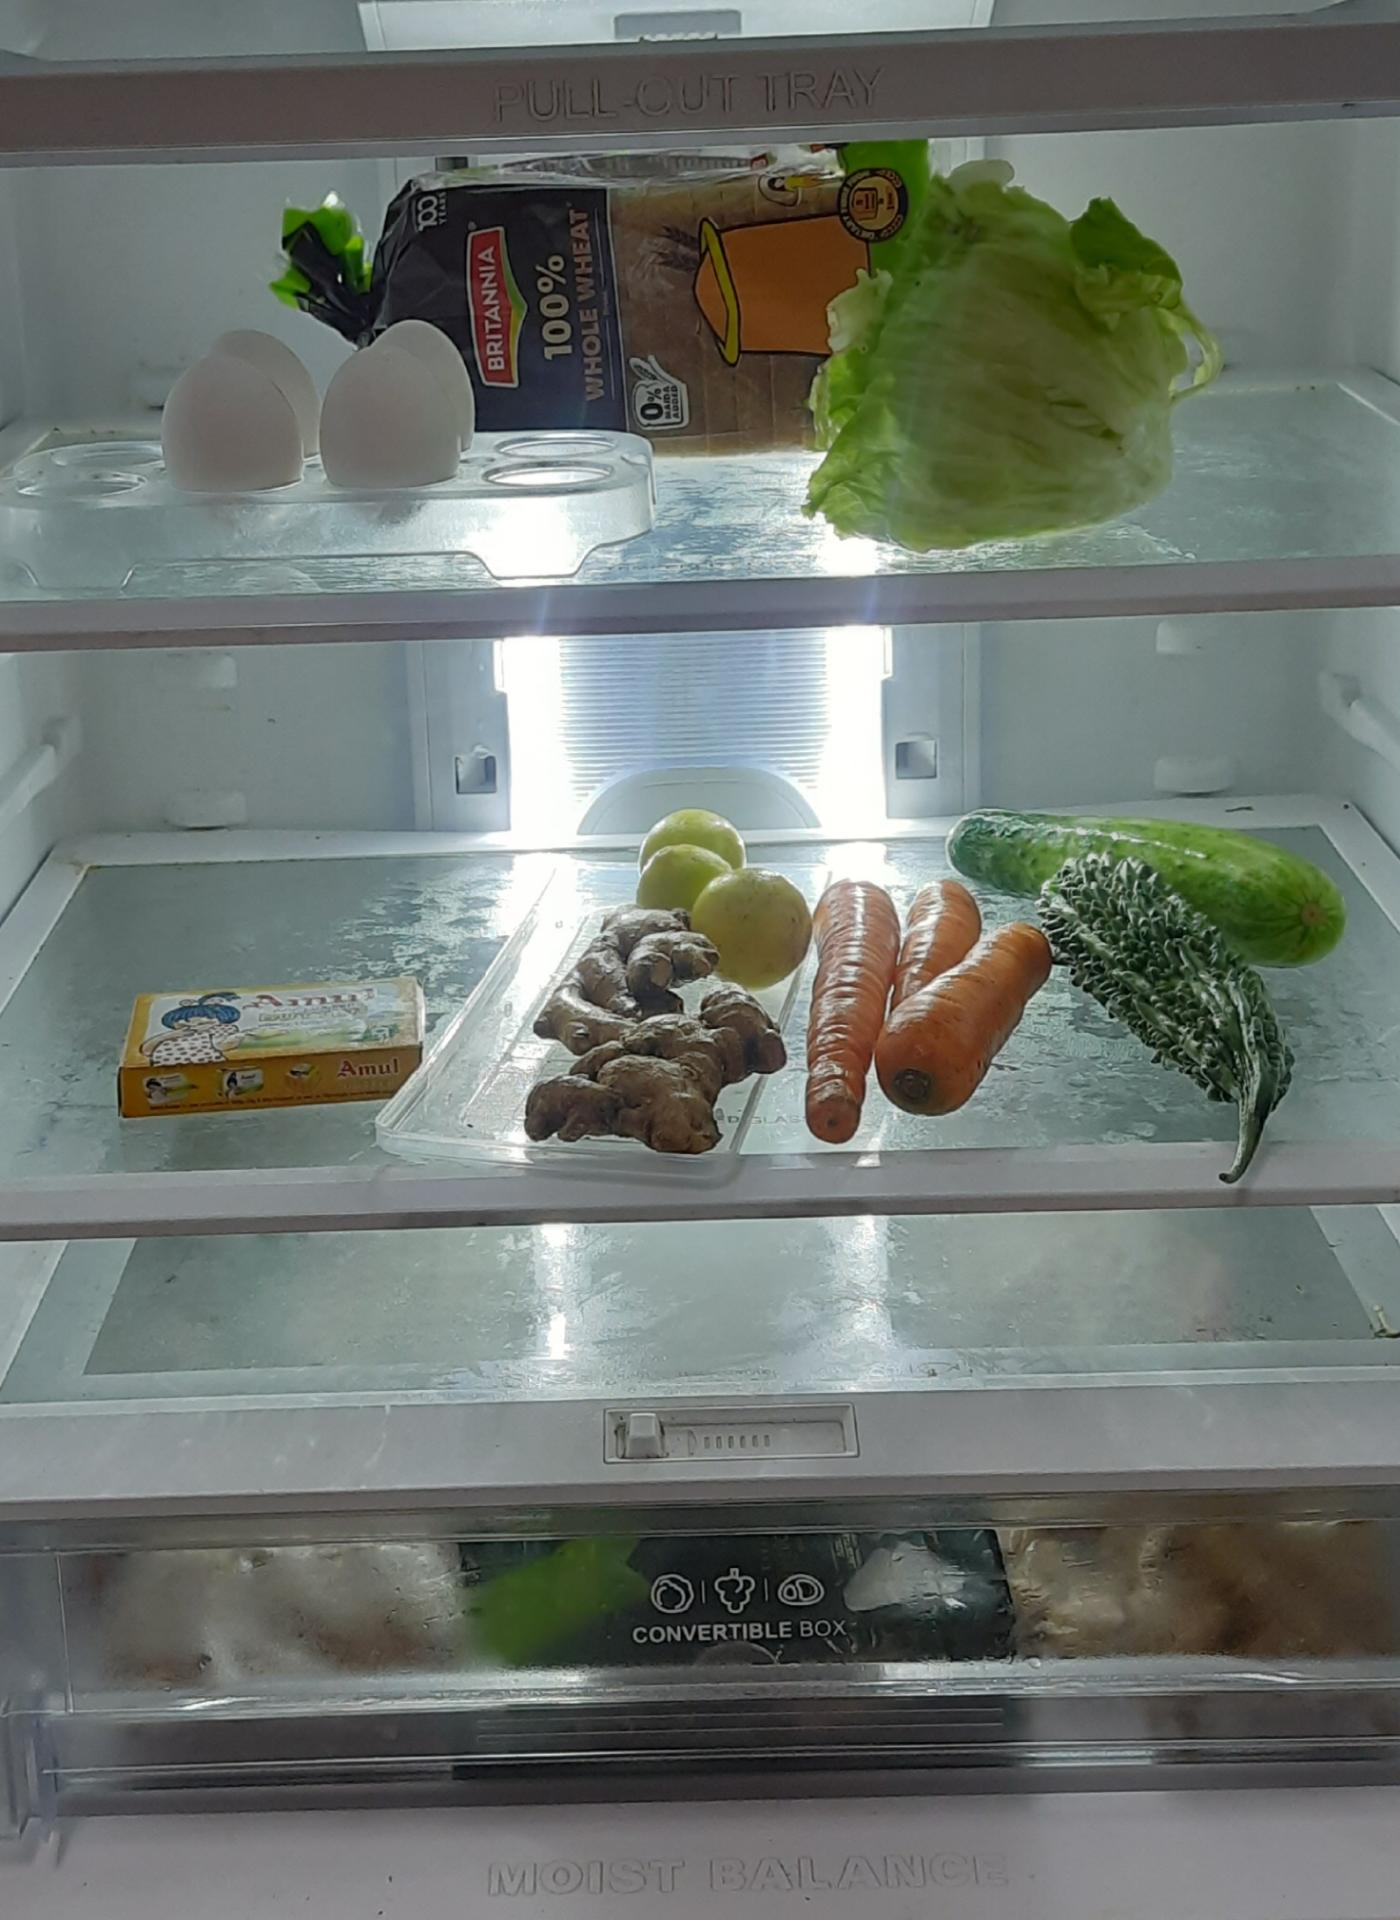bitter gourd: (1047, 848, 1285, 1131)
bread: (282, 171, 747, 479)
cabbage: (811, 168, 1194, 531)
carrots: (802, 890, 1051, 1151)
ginger: (529, 951, 781, 1158)
lemon: (628, 808, 808, 979)
milk: (112, 970, 446, 1133)
